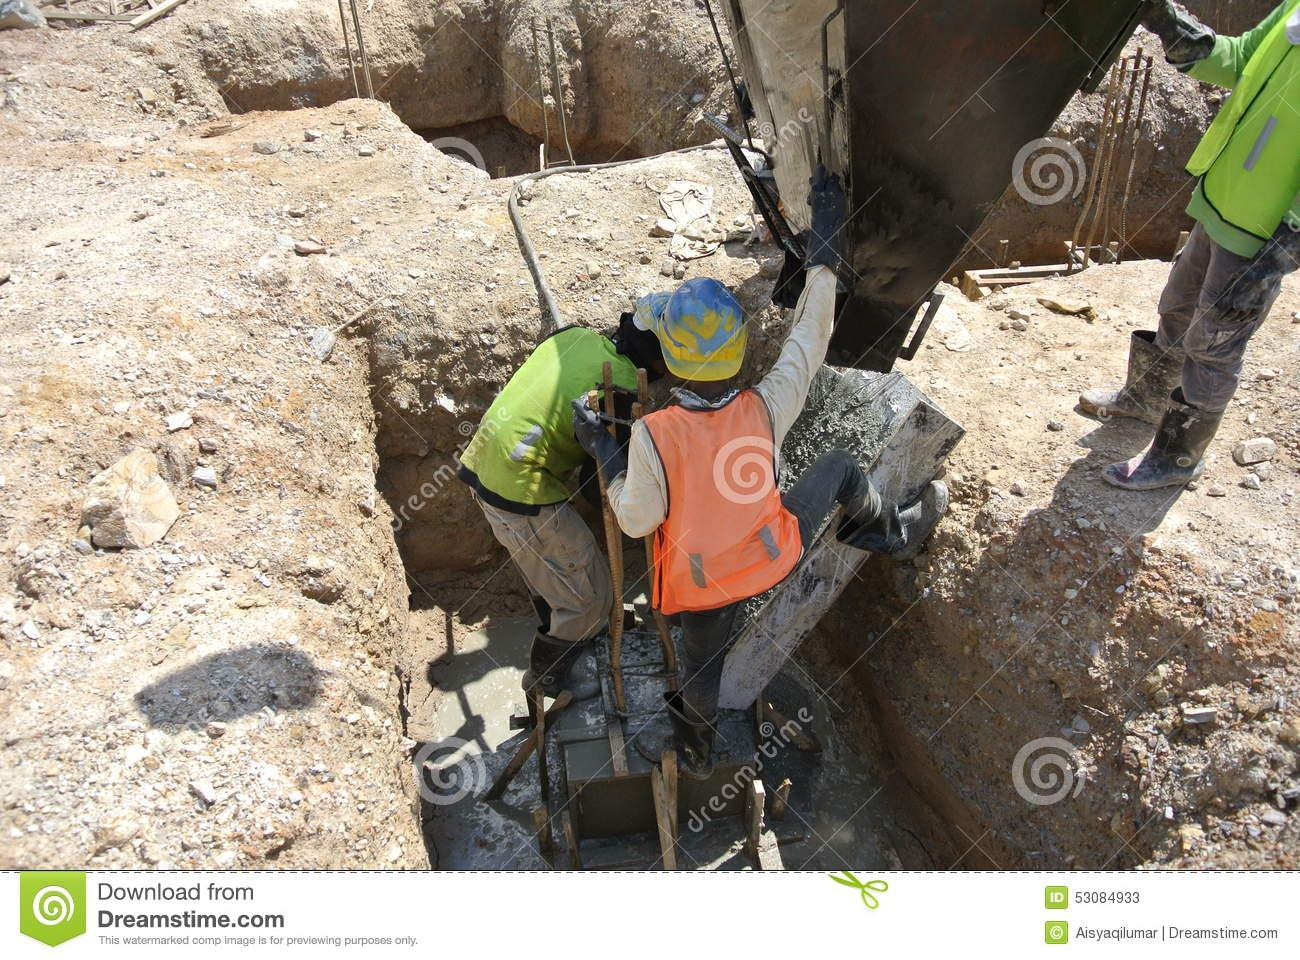helmet: (658, 278, 753, 386)
